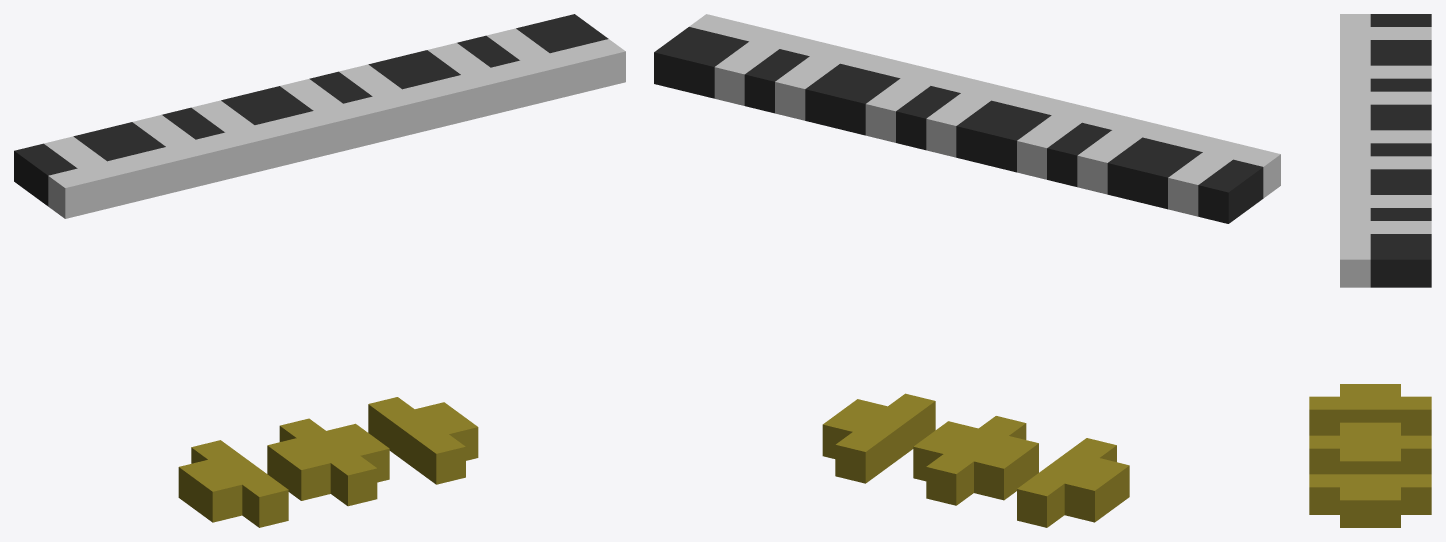
The model's file is PianoKeys.gltf.
3 renders of one model, left to right at view 1: azimuth 30°, elevation 25°; view 2: azimuth 150°, elevation 25°; view 3: azimuth 270°, elevation 25°, orthographic. The views are drawn at different scales.
Visible parts, largest first — view 1: Piano.Keys.2, Piano.Keys.1, Piano.Keys.3, Piano.Keys.0, Piano.Pedals.2, Piano.Pedals.1, Piano.Pedals.0; view 2: Piano.Keys.3, Piano.Keys.2, Piano.Keys.1, Piano.Keys.0, Piano.Pedals.2, Piano.Pedals.1, Piano.Pedals.0; view 3: Piano.Keys.3, Piano.Keys.1, Piano.Keys.2, Piano.Pedals.0, Piano.Pedals.2, Piano.Pedals.1, Piano.Keys.0.
Part boxes in pixels (bbox=[...]): Piano.Keys.2: bbox=[280, 50, 478, 153]; Piano.Keys.1: bbox=[132, 86, 330, 189]; Piano.Keys.3: bbox=[427, 14, 625, 117]; Piano.Keys.0: bbox=[14, 122, 183, 218]; Piano.Pedals.2: bbox=[267, 418, 389, 506]; Piano.Pedals.1: bbox=[178, 440, 288, 527]; Piano.Pedals.0: bbox=[368, 397, 478, 484]; Piano.Keys.3: bbox=[654, 14, 856, 120]; Piano.Keys.2: bbox=[805, 51, 1008, 157]; Piano.Keys.1: bbox=[956, 88, 1159, 194]; Piano.Keys.0: bbox=[1107, 124, 1280, 223]; Piano.Pedals.2: bbox=[913, 416, 1038, 505]; Piano.Pedals.1: bbox=[1017, 438, 1129, 527]; Piano.Pedals.0: bbox=[822, 393, 935, 483]; Piano.Keys.3: bbox=[1340, 195, 1431, 287]; Piano.Keys.1: bbox=[1340, 65, 1431, 130]; Piano.Keys.2: bbox=[1340, 130, 1431, 194]; Piano.Pedals.0: bbox=[1309, 474, 1431, 527]; Piano.Pedals.2: bbox=[1309, 422, 1431, 474]; Piano.Pedals.1: bbox=[1309, 384, 1431, 435]; Piano.Keys.0: bbox=[1340, 14, 1431, 65].
Size of the model in its own units: 19 by 12 by 4.
